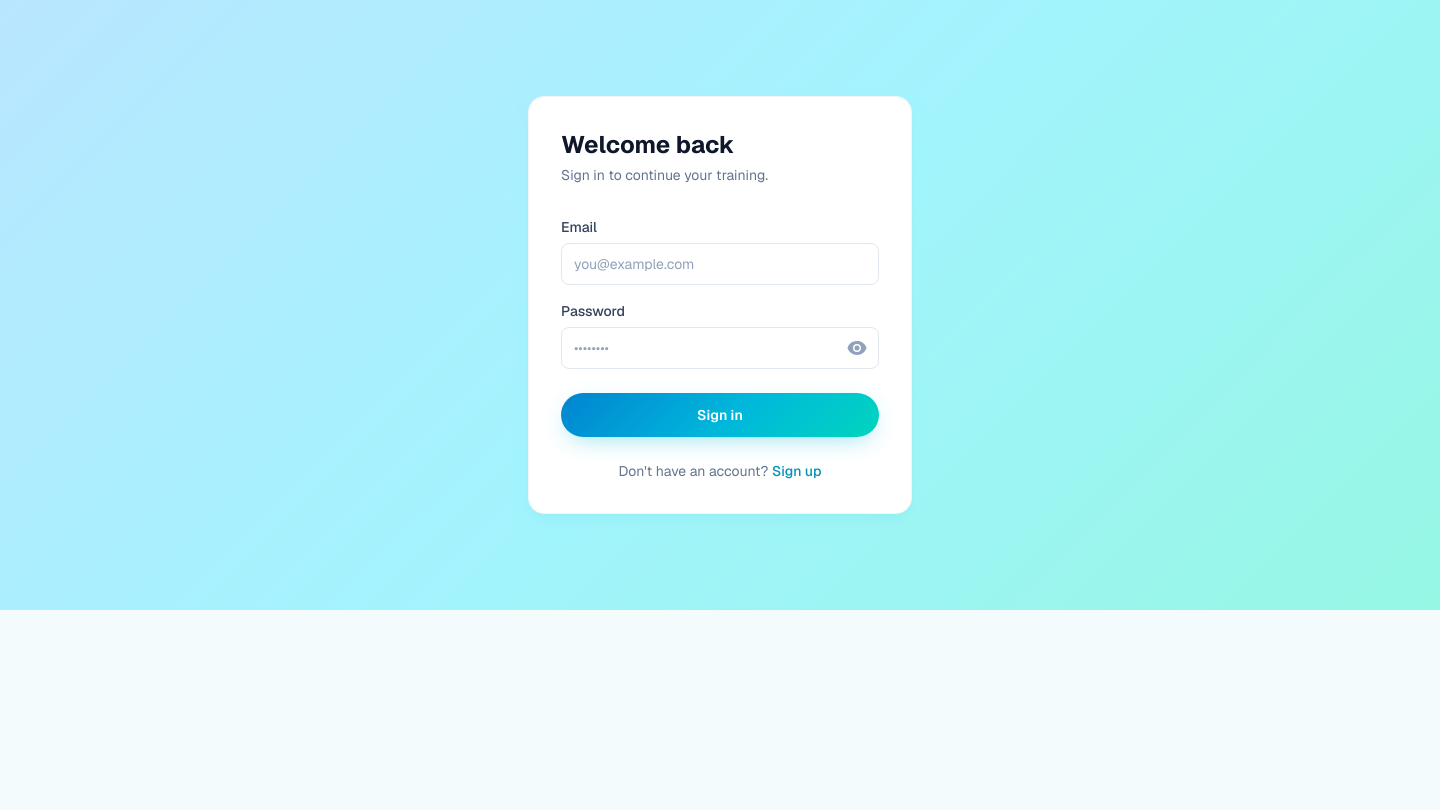
Test: SignInPage › shows the fallback error message when submission fails without field errors
Type "jane@example.com" into the field labelled "Email". click: (720, 264)
box: [561, 243, 879, 285]
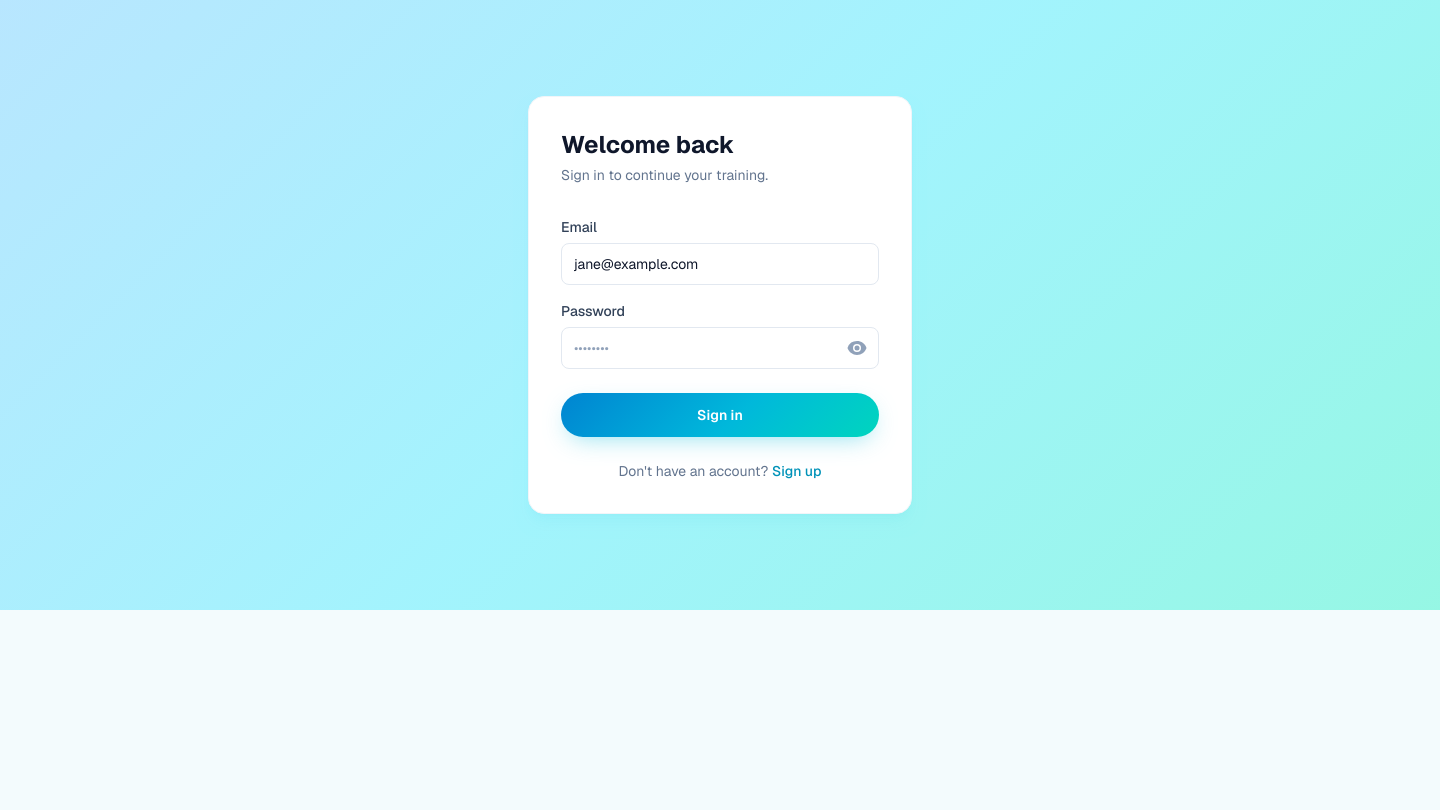
Type "hunter2222" into the password field labelled "Password". click: (720, 348)
box: [561, 327, 879, 369]
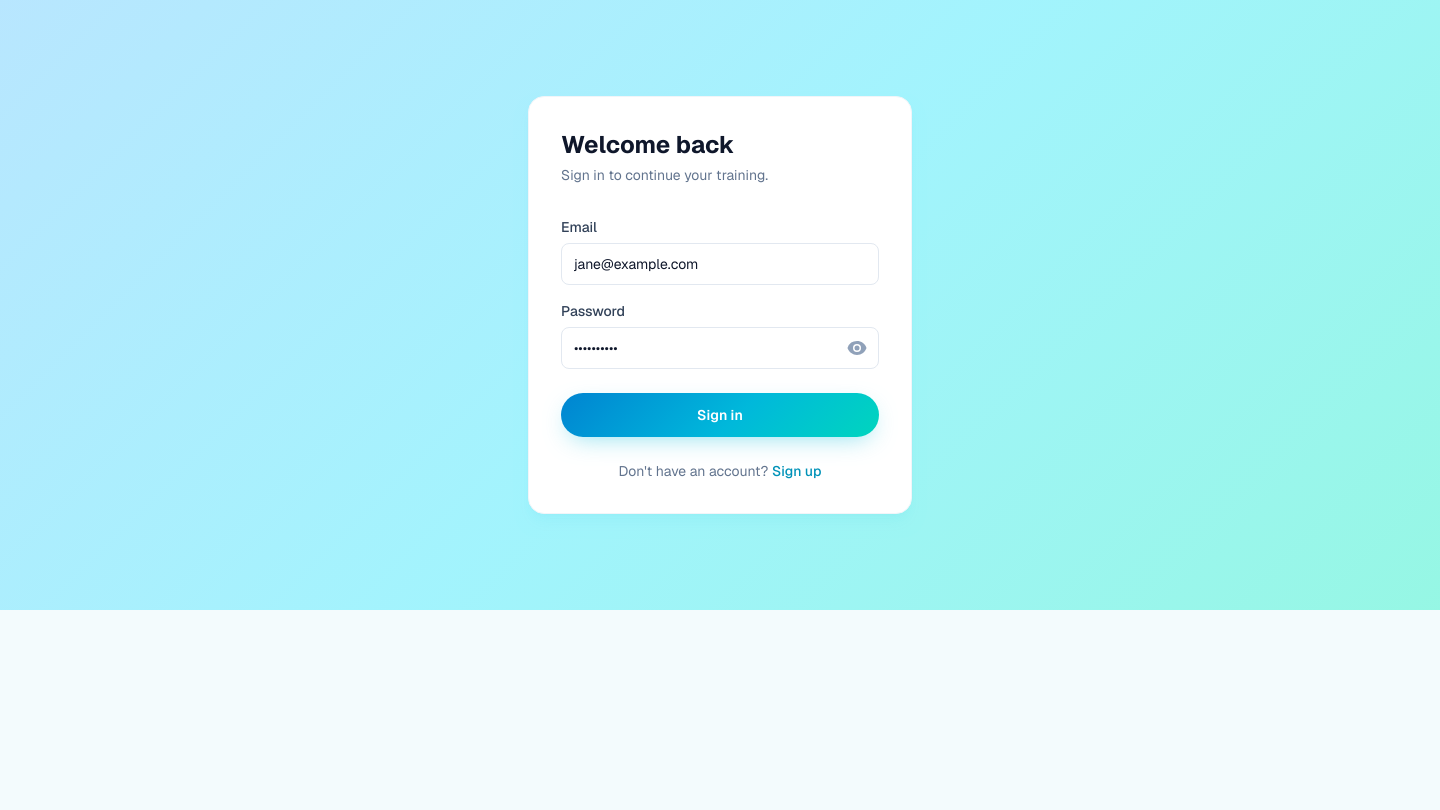
Click the button "Sign in". click: (720, 415)
box: [561, 393, 879, 437]
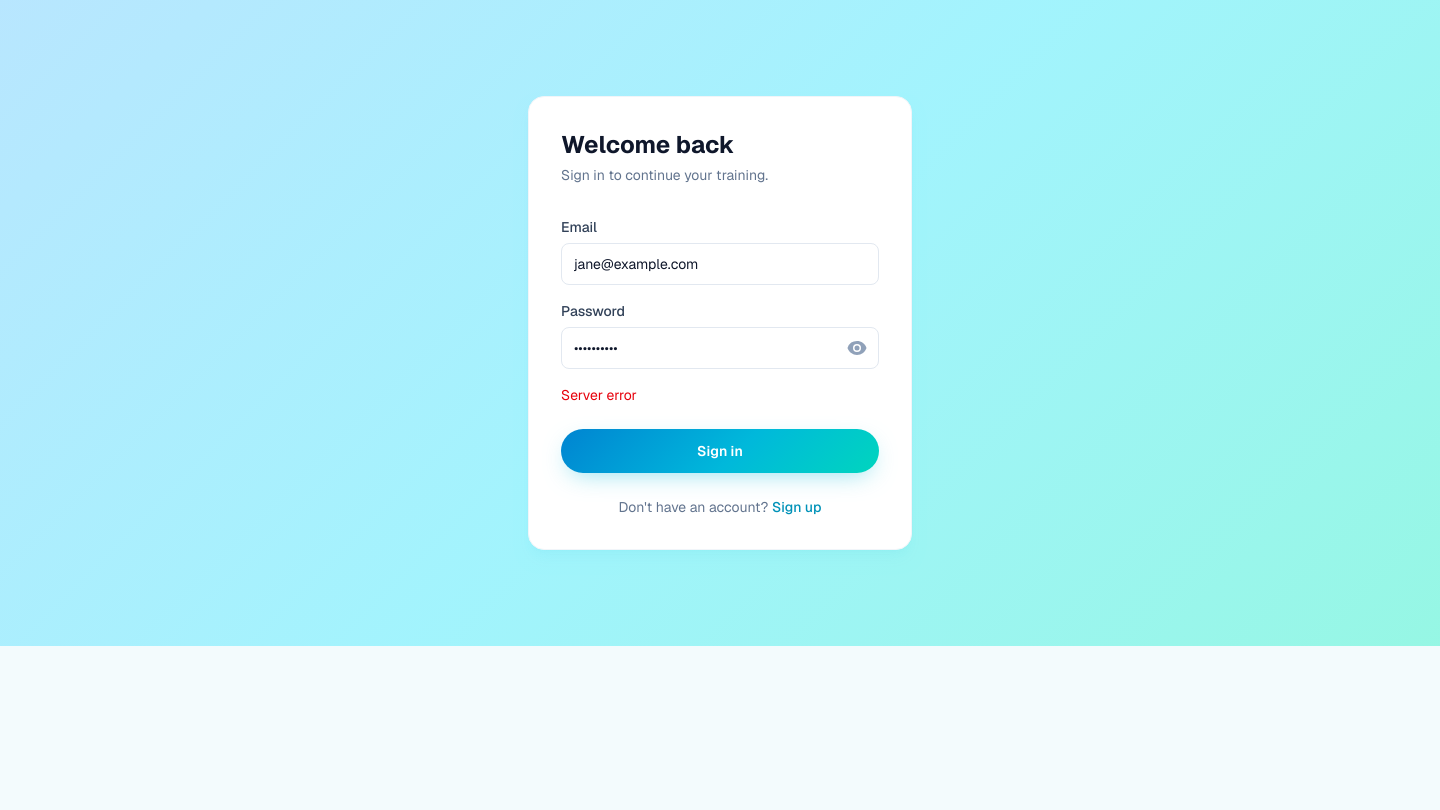
Expected: the text "Server error" is shown, [561, 386, 637, 404]
